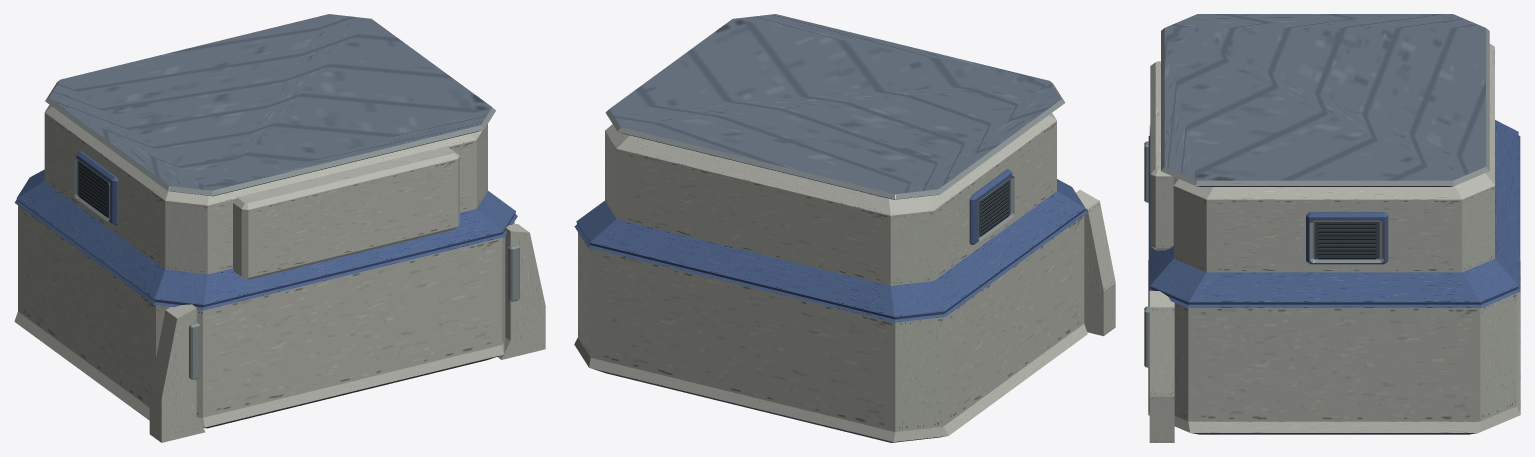
Rendered from OperationsCore.fbx.
3 renders of one model, left to right at view 1: azimuth 30°, elevation 25°; view 2: azimuth 150°, elevation 25°; view 3: azimuth 270°, elevation 25°, orthographic. The views are drawn at different scales.
Parts seen in each view (by area): view 1: OperationsCore; view 2: OperationsCore; view 3: OperationsCore.
Part boxes in pixels (x1=…): OperationsCore: x1=14, y1=14, x2=545, y2=442; OperationsCore: x1=574, y1=14, x2=1115, y2=442; OperationsCore: x1=1144, y1=14, x2=1520, y2=442.
Size of the model in its own units: 2570 by 1510 by 2061.
